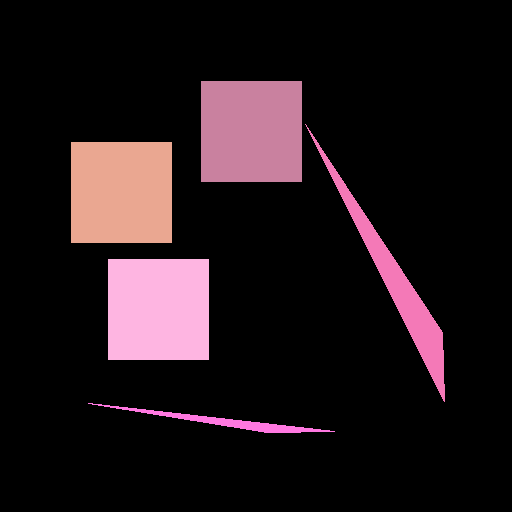square: (108, 259, 208, 359), (71, 142, 171, 242), (201, 81, 301, 181)
triangle: (305, 124, 444, 401)
